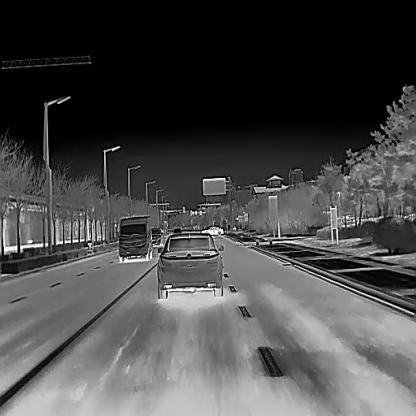car: (155, 229, 224, 298), (114, 214, 153, 262), (200, 225, 224, 235), (150, 225, 162, 245), (172, 226, 182, 234)
